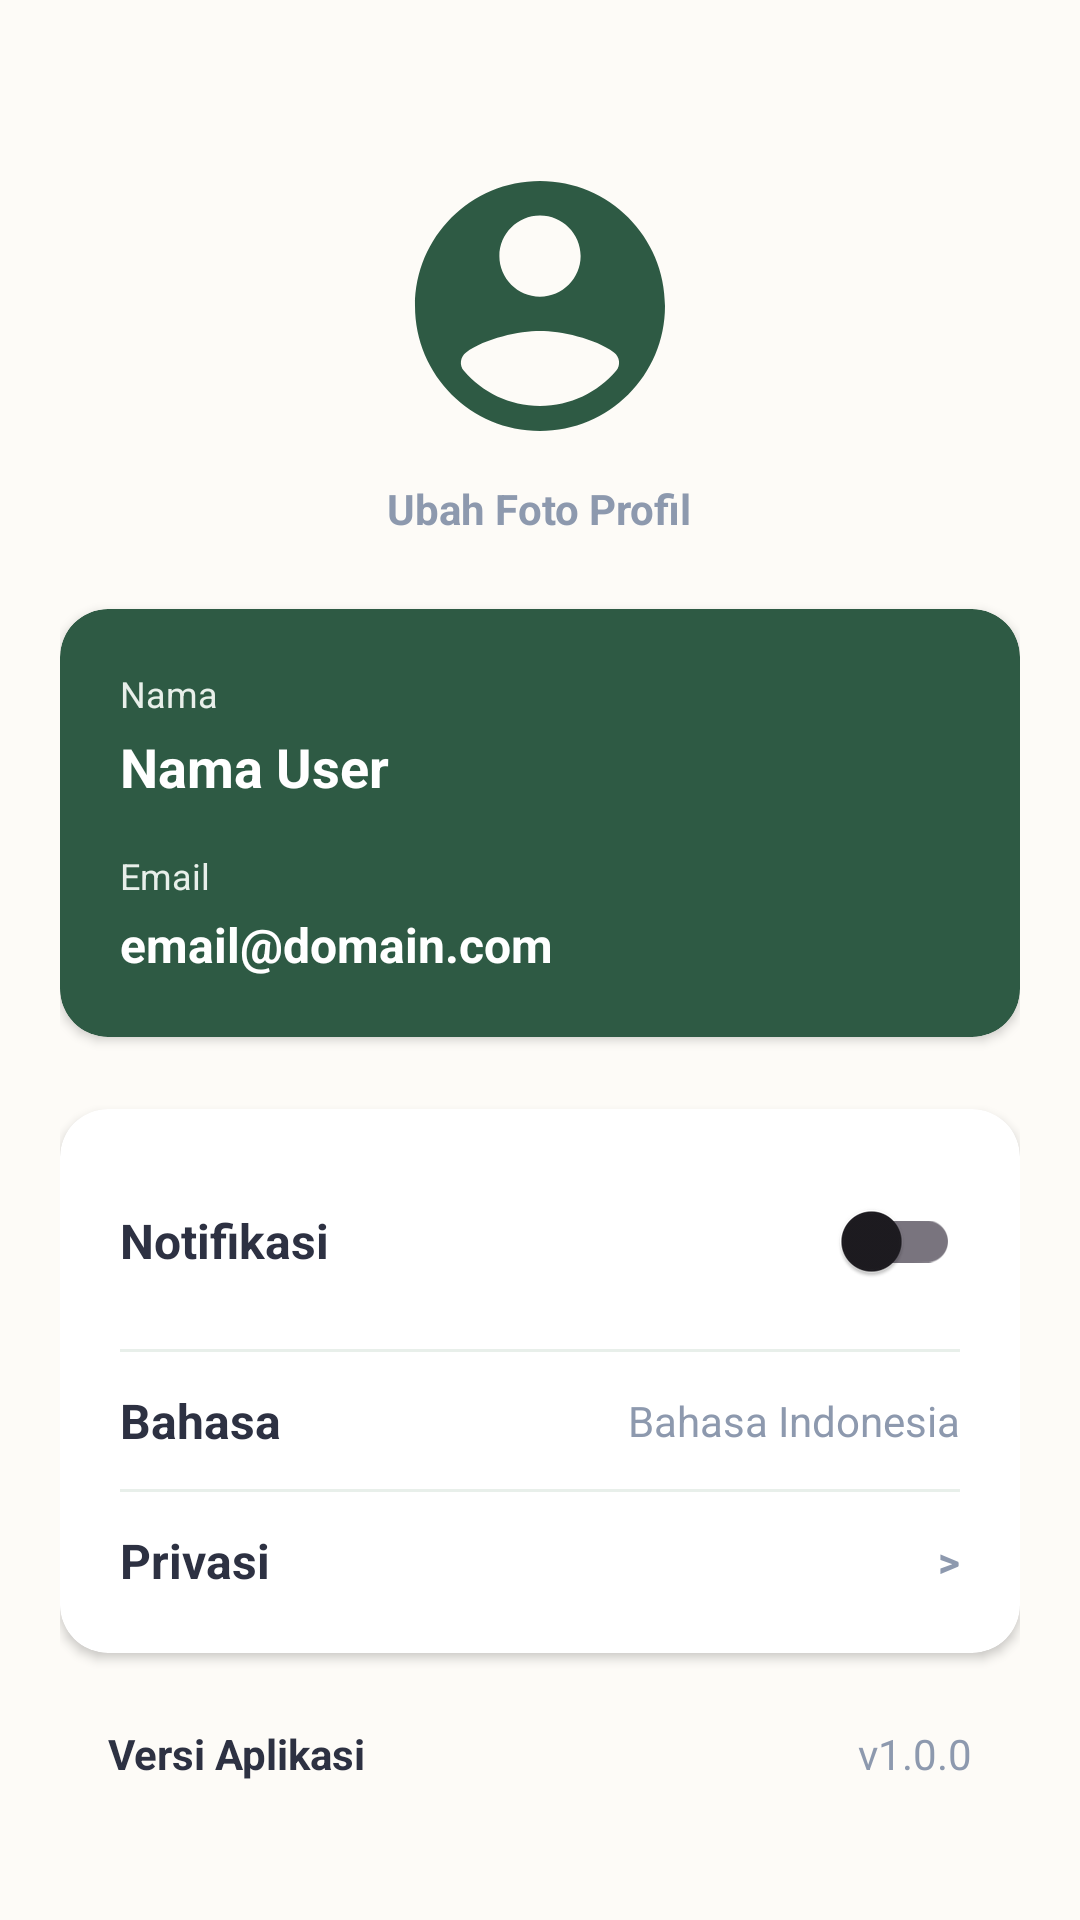

Named icons in this screenshot (1080px x 1920px) and their bounding boxes, [x1, y1, x2, y2]:
account: [415, 181, 665, 431]
